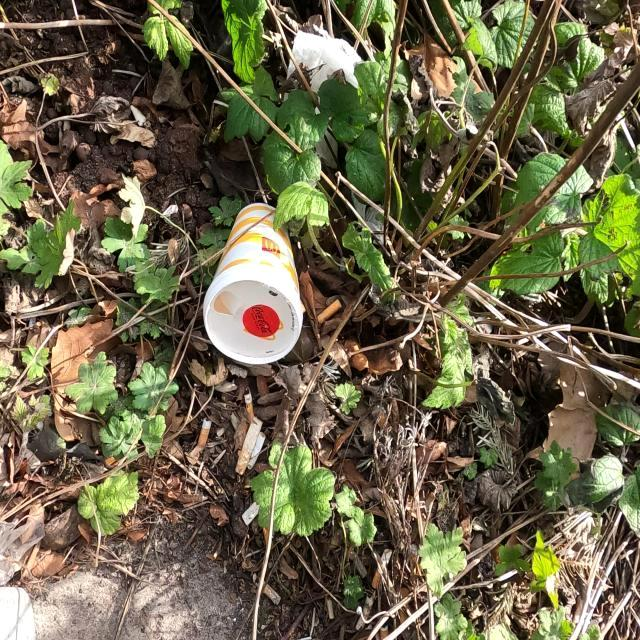Coffee Cup: (201, 198, 305, 368)
